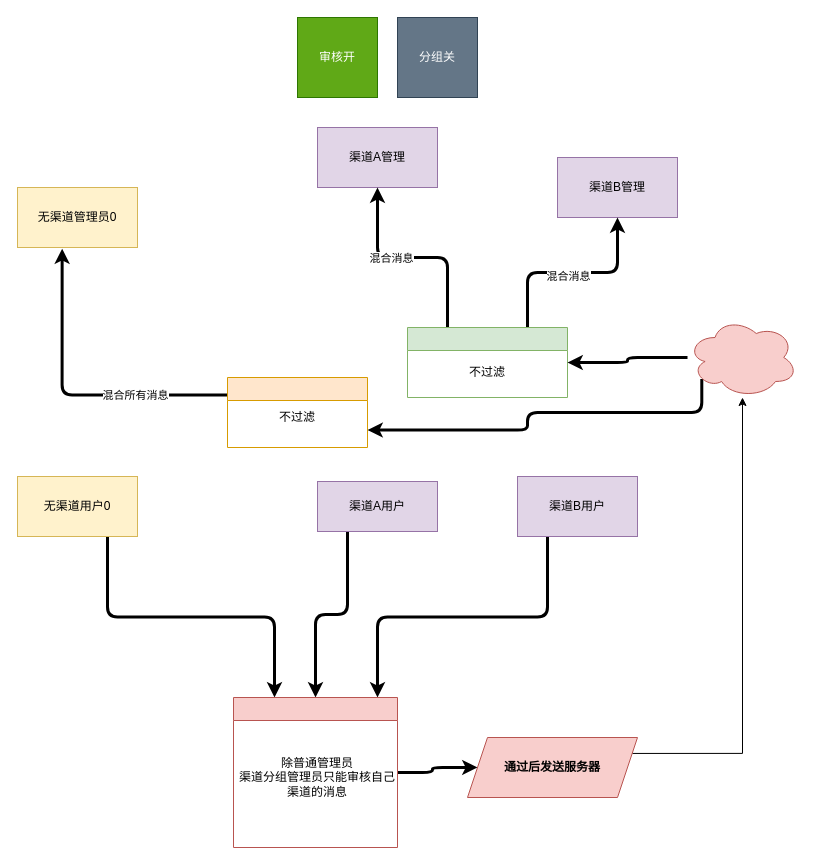
The diagram is 815 pixels wide and 865 high, and some of its shapes have lost their labels. Here are the shapes that lost their labels. From the top down, the box of each, then its label:
(406, 326, 568, 398): 普通用户渠道过滤器
(686, 316, 798, 398): 聊天服务器
(226, 376, 368, 448): 管理员渠道过滤器
(232, 696, 398, 848): 审核聊天审核区
